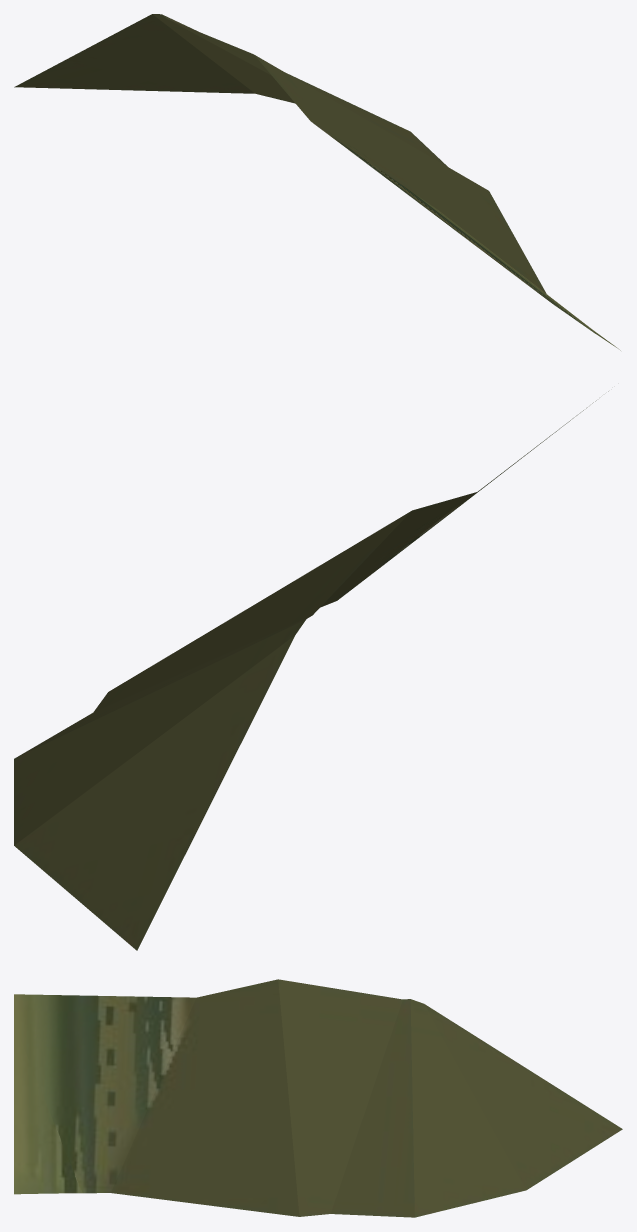
3 renders of one model, top to bottom at view 1: azimuth 30°, elevation 25°; view 2: azimuth 150°, elevation 25°; view 3: azimuth 270°, elevation 25°, orthographic. The views are drawn at different scales.
Bounding box in the file's own units: 0.9461 × 0.7478 × 2.75.
Materials: 1 (1 with a texture image).
